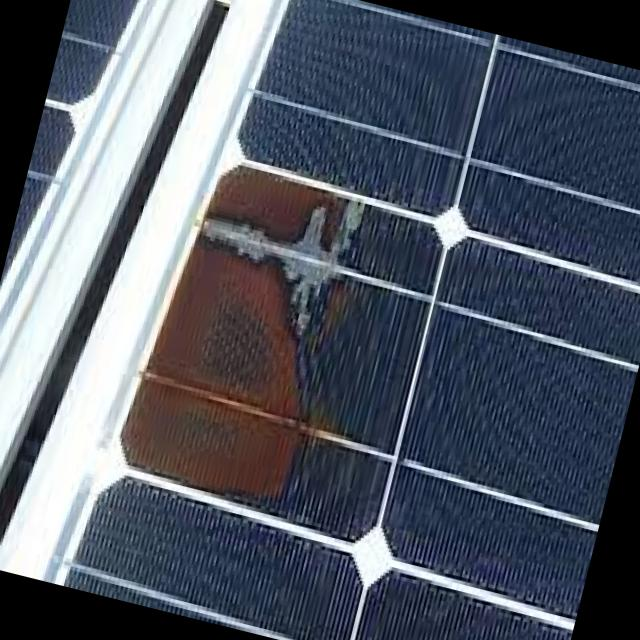faulty: (108, 149, 446, 534)
